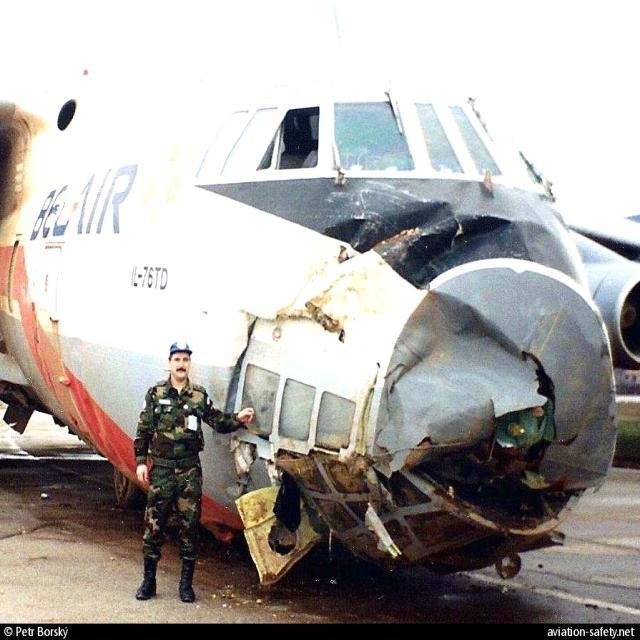dent: (330, 201, 507, 257)
